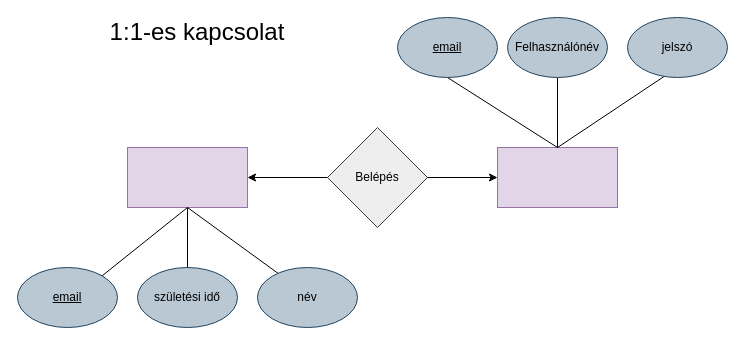
Image size: 745x345. Some labels were removed from this diagram. The centre of each missing label's shape, as x and y in pixels:
"Felhasználó" belongs at [187,177].
"Profil" belongs at [557,177].
